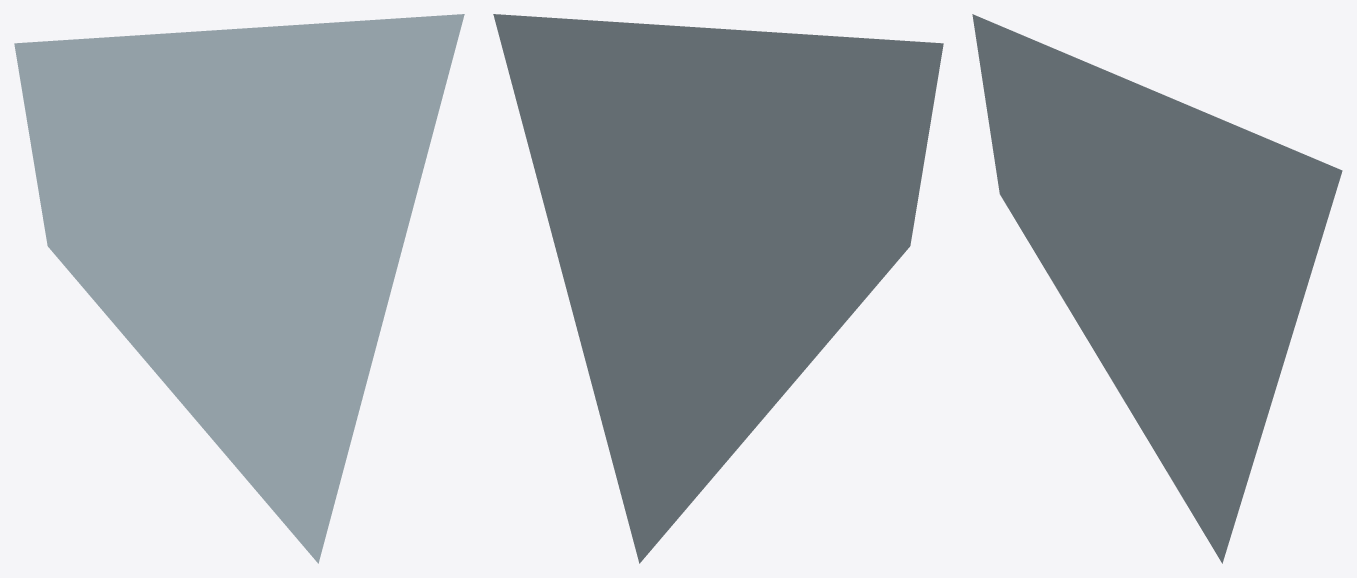
3 views of the same model, side by side, from view 1: azimuth 30°, elevation 25°; view 2: azimuth 150°, elevation 25°; view 3: azimuth 330°, elevation 25° (orthographic). The views are drawn at different scales.
Visible parts, largest first — view 1: pCube37; view 2: pCube37; view 3: pCube37.
Boxes of the visible parts, left/top/right/bottom form: pCube37: left=14, top=14, right=464, bottom=563; pCube37: left=493, top=14, right=943, bottom=563; pCube37: left=972, top=14, right=1342, bottom=563.
Bounding box in the file's own units: 22.72 × 28.67 × 0.
